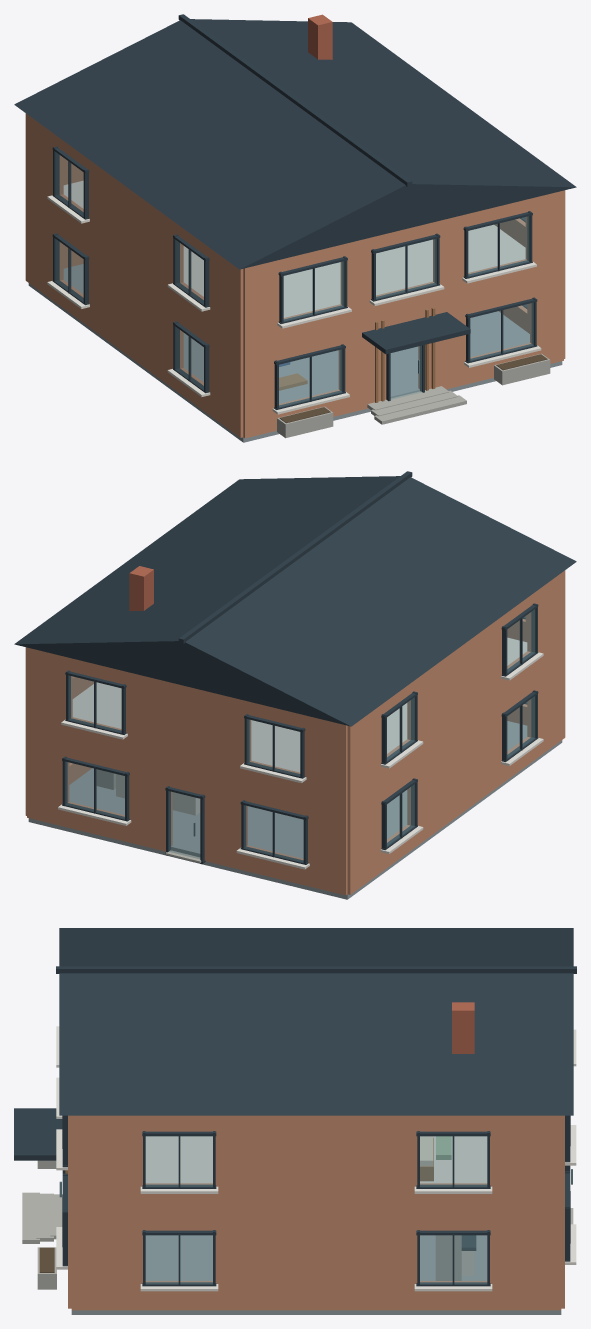
File: House_1.fbx
3 views of the same model, one above another, from view 1: azimuth 30°, elevation 25°; view 2: azimuth 150°, elevation 25°; view 3: azimuth 270°, elevation 25° (orthographic). The views are drawn at different scales.
Visible parts, largest first — view 1: House_1.001; view 2: House_1.001; view 3: House_1.001.
Boxes of the visible parts, x1=… form: House_1.001: x1=14, y1=14, x2=576, y2=442; House_1.001: x1=14, y1=471, x2=576, y2=899; House_1.001: x1=14, y1=928, x2=576, y2=1314.
Bounding box in the file's own units: 12.87 × 8.5 × 16.1.
